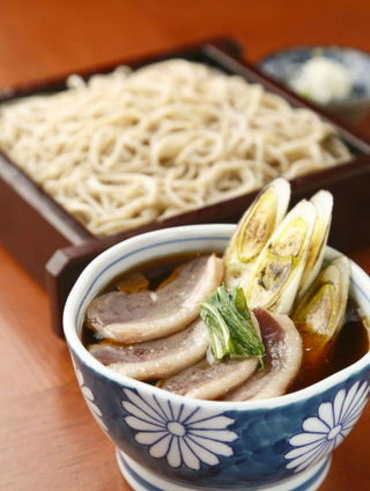Soba: (8, 54, 355, 244)
